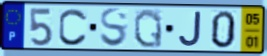0: (210, 9, 238, 50)
5: (28, 6, 55, 47)
C: (57, 7, 89, 48)
J: (177, 10, 204, 48)
Q: (133, 7, 164, 49)
S: (99, 7, 129, 49)
